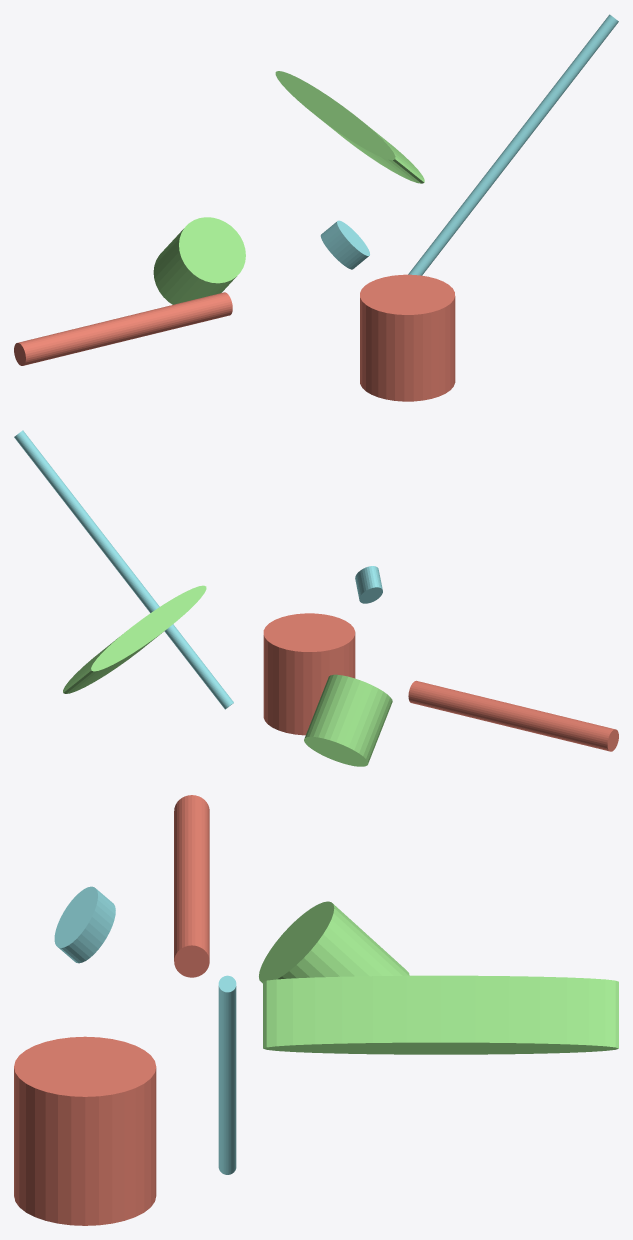
File: cylinders.gltf
The picture shows the model from 3 angles, top to bottom: view 1: azimuth 30°, elevation 25°; view 2: azimuth 150°, elevation 25°; view 3: azimuth 270°, elevation 25°; orthographic projection. The views are drawn at different scales.
Parts seen in each view (by area): view 1: Cylinder.003, Cylinder.001, Cylinder, Cylinder.005, Cylinder.004, Cylinder.002; view 2: Cylinder.003, Cylinder.001, Cylinder, Cylinder.005, Cylinder.004, Cylinder.002; view 3: Cylinder.004, Cylinder.003, Cylinder.001, Cylinder, Cylinder.005, Cylinder.002.
Part boxes in pixels (<box>): Cylinder.003: <box>360,274,455,401</box>; Cylinder.001: <box>153,217,245,304</box>; Cylinder: <box>14,292,232,365</box>; Cylinder.005: <box>408,14,618,275</box>; Cylinder.004: <box>275,71,424,183</box>; Cylinder.002: <box>320,220,369,269</box>; Cylinder.003: <box>263,613,355,735</box>; Cylinder.001: <box>304,674,392,766</box>; Cylinder: <box>408,680,618,751</box>; Cylinder.005: <box>14,430,233,709</box>; Cylinder.004: <box>63,585,206,693</box>; Cylinder.002: <box>355,566,382,603</box>; Cylinder.004: <box>263,975,618,1054</box>; Cylinder.003: <box>14,1036,156,1225</box>; Cylinder.001: <box>259,901,409,983</box>; Cylinder: <box>174,795,209,977</box>; Cylinder.005: <box>218,975,236,1174</box>; Cylinder.002: <box>54,886,115,963</box>.
Size of the model in its own units: 29.48 by 12.48 by 17.
